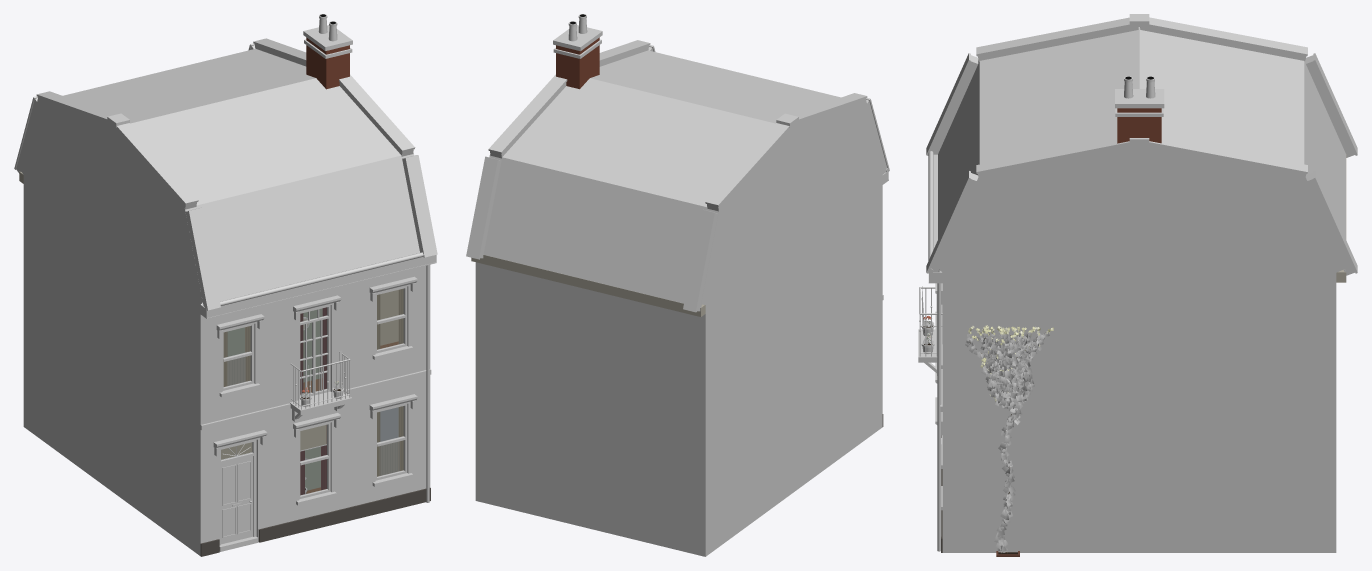
The model's file is StraightEnd_Outer4.glb.
3 renders of one model, left to right at view 1: azimuth 30°, elevation 25°; view 2: azimuth 150°, elevation 25°; view 3: azimuth 270°, elevation 25°, orthographic. The views are drawn at different scales.
Parts seen in each view (by area): view 1: StraightEnd_Outer4; view 2: StraightEnd_Outer4; view 3: StraightEnd_Outer4.
Boxes of the visible parts, left/top/right/bottom form: StraightEnd_Outer4: left=14, top=14, right=437, bottom=556; StraightEnd_Outer4: left=466, top=14, right=889, bottom=556; StraightEnd_Outer4: left=918, top=14, right=1357, bottom=556.
Size of the model in its own units: 6.22 by 10.48 by 8.93.
